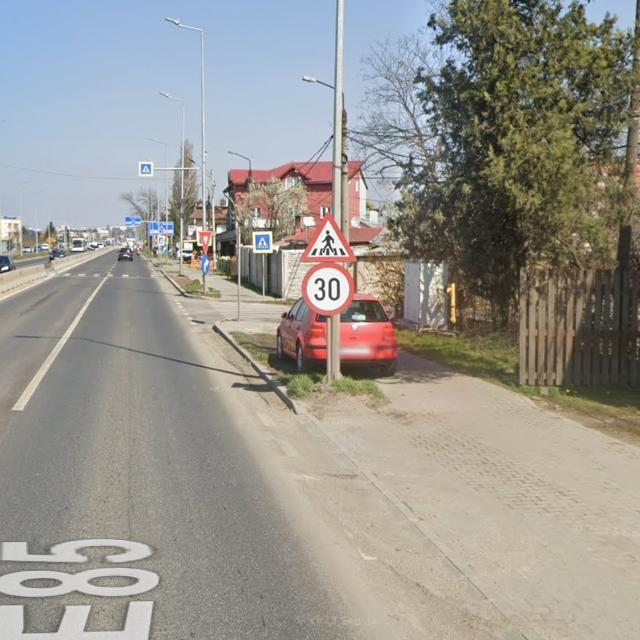forb_speed_over_30: (304, 263, 353, 313)
info_crosswalk: (252, 232, 273, 254), (138, 162, 152, 176)
prio_give_way: (200, 231, 213, 255)
warn_crosswalk: (304, 216, 357, 261)
